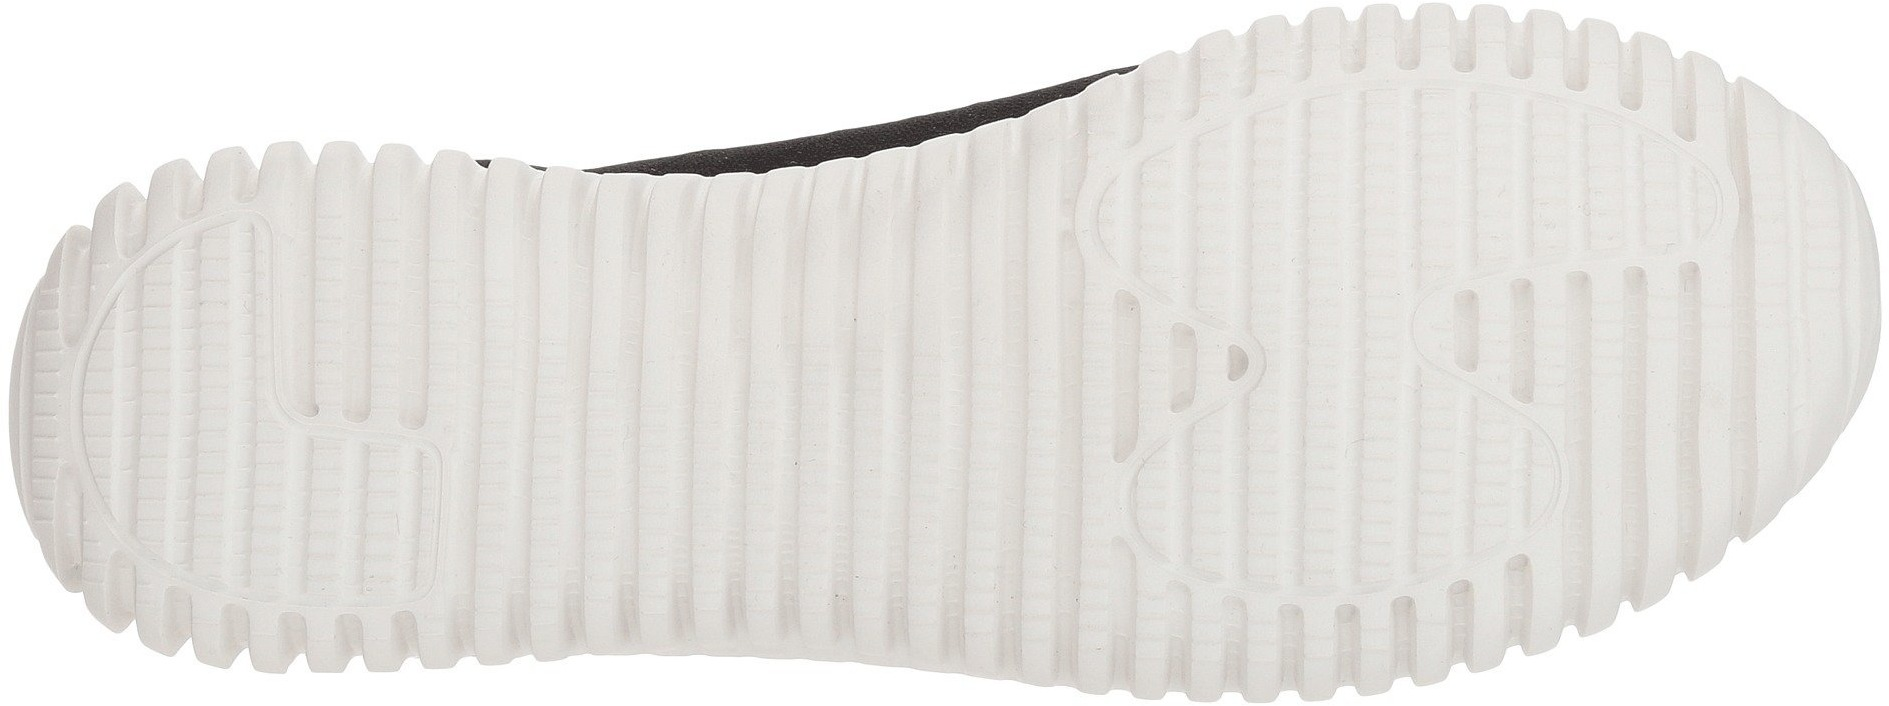quad: (6, 116, 1110, 686), (1054, 10, 1734, 698), (1360, 129, 1732, 457), (112, 308, 454, 641), (1026, 367, 1341, 695), (737, 369, 1022, 661), (458, 372, 726, 648), (1105, 108, 1375, 366), (869, 160, 1105, 395), (457, 171, 664, 376), (1348, 460, 1541, 654), (1738, 218, 1875, 364)
